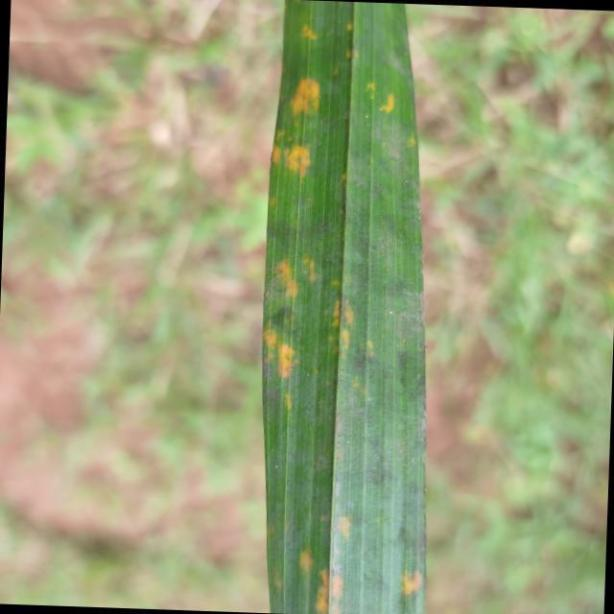Kalium: (265, 3, 427, 609)
